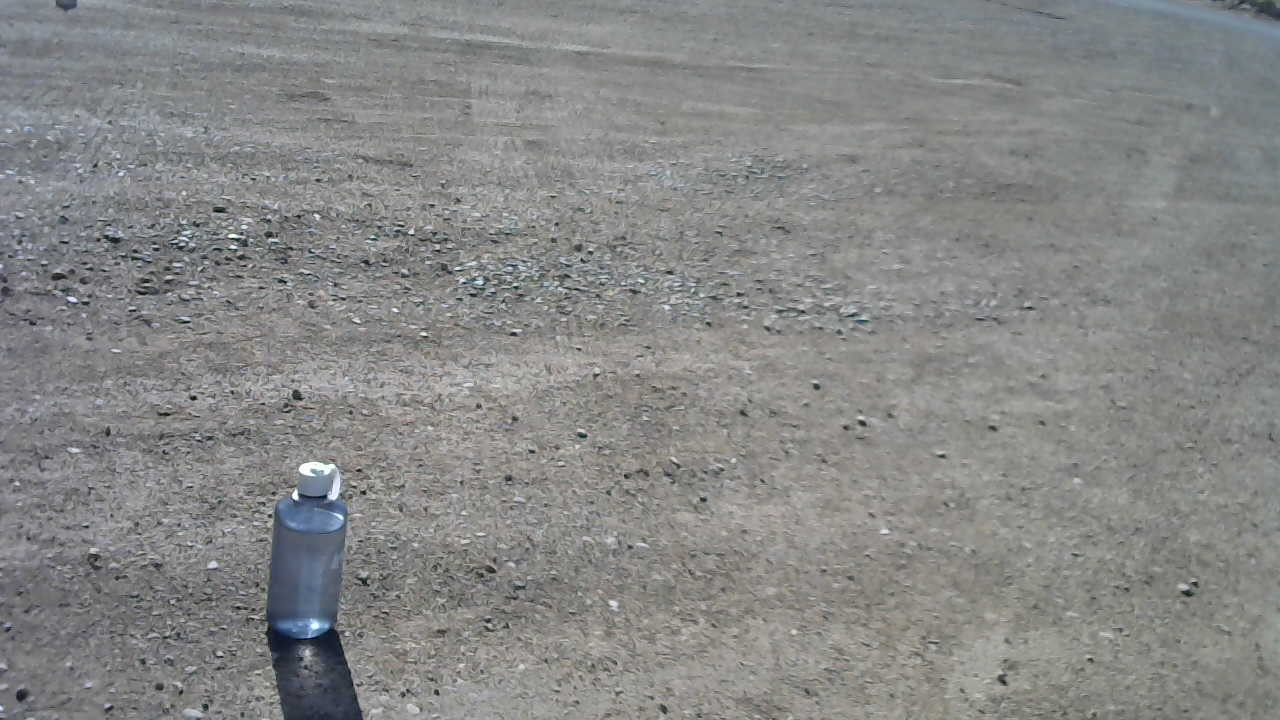bottle: (259, 451, 349, 647)
